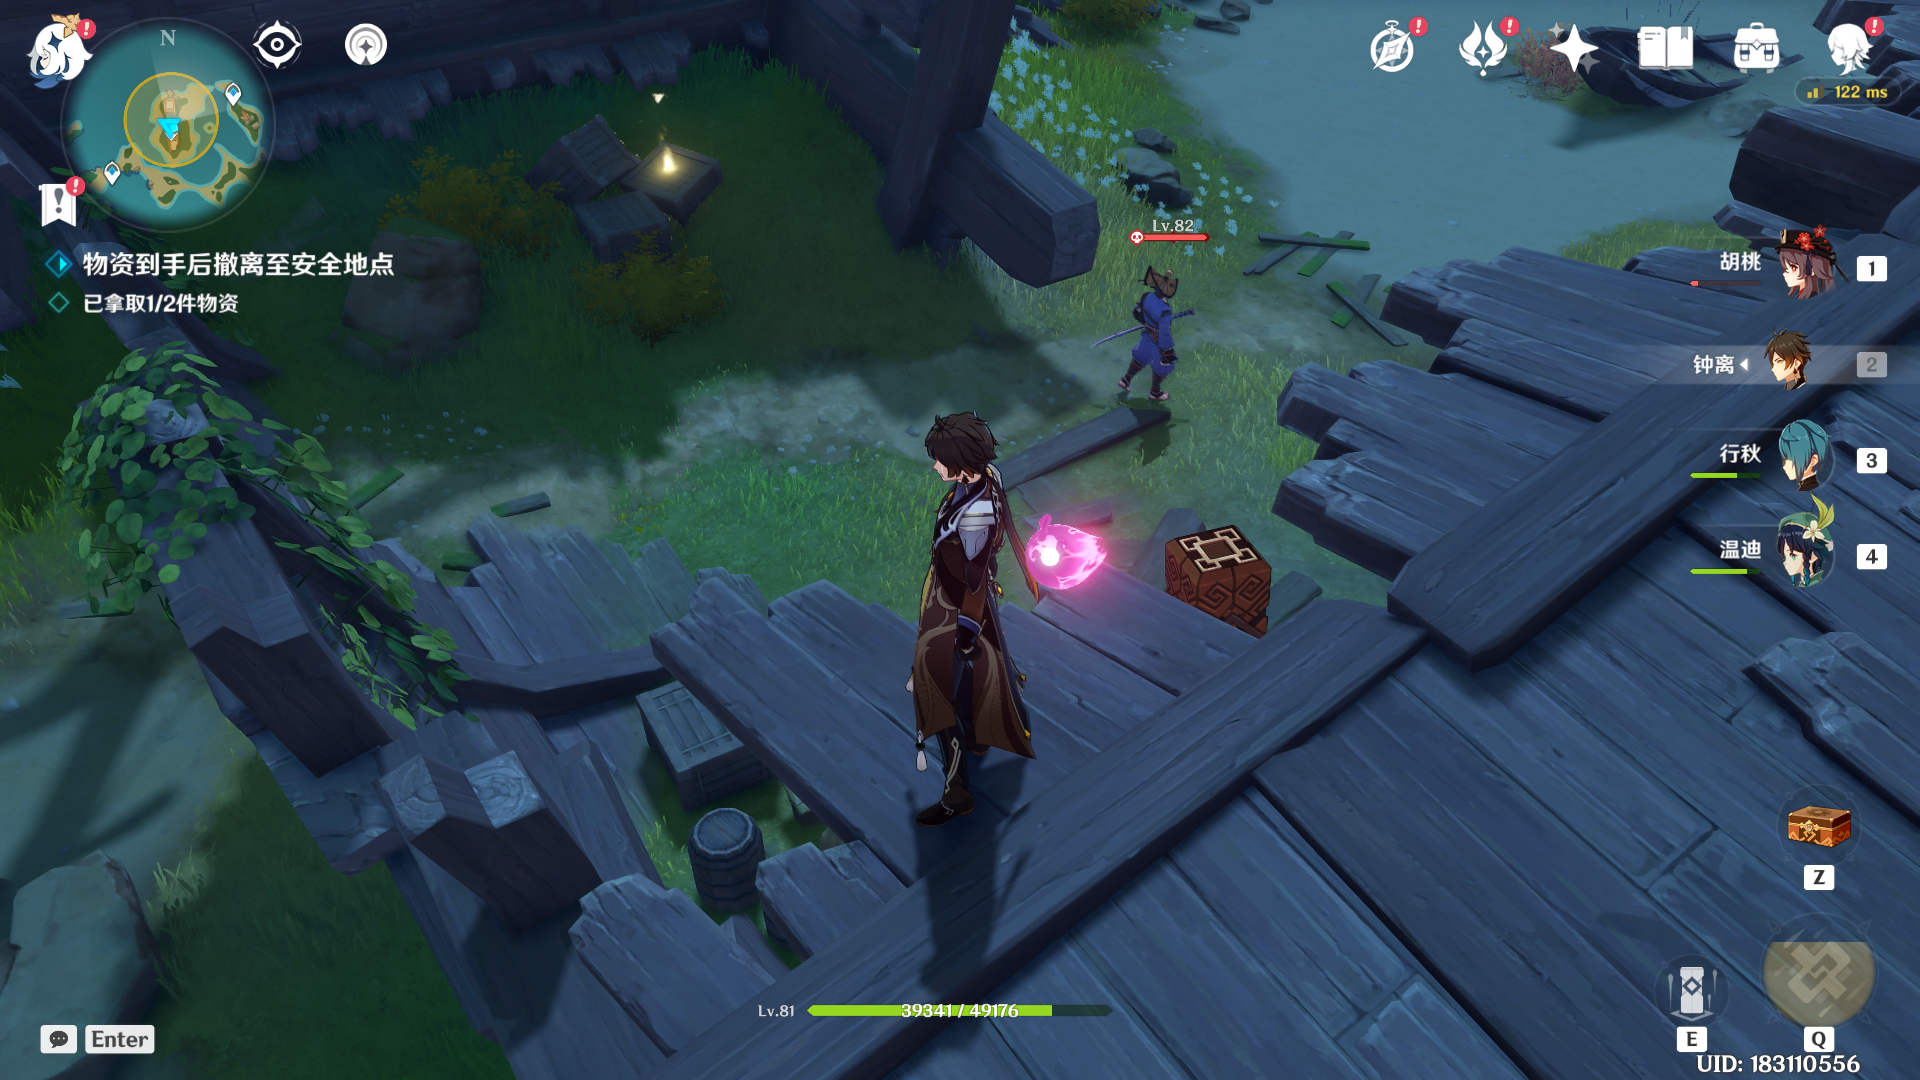character: (851, 371, 1116, 870)
samurai: (1079, 231, 1204, 427)
